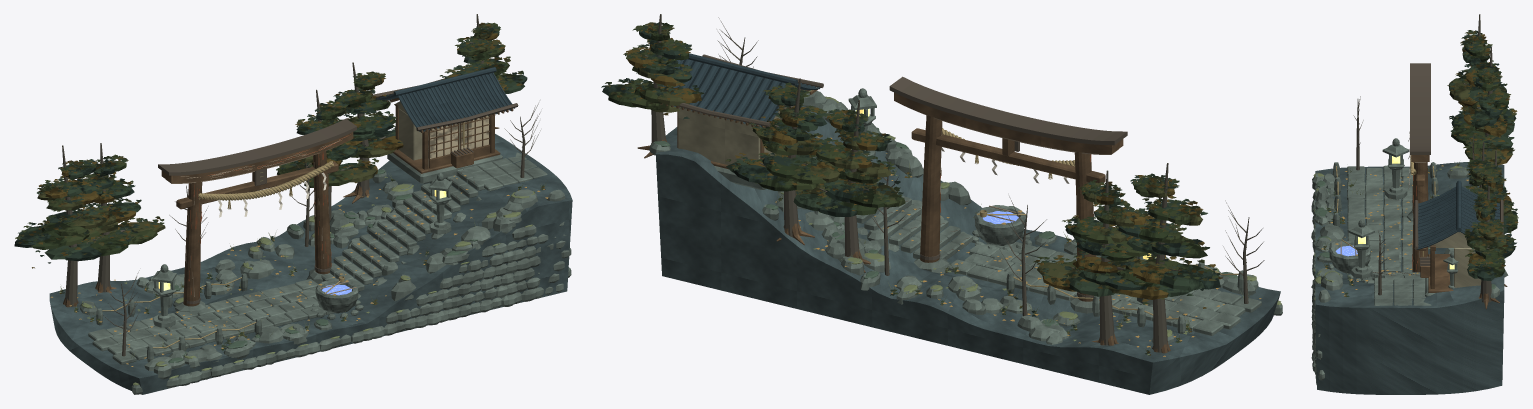
File: act01_approach.glb
3 views of the same model, side by side, from view 1: azimuth 30°, elevation 25°; view 2: azimuth 150°, elevation 25°; view 3: azimuth 270°, elevation 25° (orthographic). The views are drawn at different scales.
Visible parts, largest first — view 1: 01_Terrain_Watertight_Sculpted_Earth, 06_Exposed_Bank_Stone_Strata, 61_Cedar_1_Foliage, 51_Layered_Rocks_Front, 14_Torii_Grand_Curved_Lintels, 51_Layered_Rocks_Back, 45_Shrine_Tile_Ridges, 10_Torii_Weathered_Pillars, 61_Cedar_2_Foliage, 61_Cedar_4_Foliage, 61_Cedar_3_Foliage, 61_Cedar_5_Foliage (+30 smaller); view 2: 01_Terrain_Watertight_Sculpted_Earth, 61_Cedar_1_Foliage, 61_Cedar_2_Foliage, 61_Cedar_3_Foliage, 61_Cedar_4_Foliage, 14_Torii_Grand_Curved_Lintels, 61_Cedar_5_Foliage, 51_Layered_Rocks_Back, 45_Shrine_Tile_Ridges, 10_Torii_Weathered_Pillars, 42_Shrine_Washi_And_Plaster, 51_Layered_Rocks_Front (+20 smaller); view 3: 01_Terrain_Watertight_Sculpted_Earth, 61_Cedar_2_Foliage, 45_Shrine_Tile_Ridges, 61_Cedar_5_Foliage, 61_Cedar_1_Foliage, 51_Layered_Rocks_Front, 14_Torii_Grand_Curved_Lintels, 02_Path_Flat_Flagstones_2, 02_Path_Flat_Flagstones_3, 61_Cedar_4_Foliage, 04_Upper_Landing_Flagstones, 02_Path_Flat_Flagstones_1 (+20 smaller).
Boxes of the visible parts, box(x1,y1,x2,y2) form: 01_Terrain_Watertight_Sculpted_Earth: box(49, 134, 572, 394); 06_Exposed_Bank_Stone_Strata: box(131, 222, 571, 394); 61_Cedar_1_Foliage: box(14, 159, 137, 268); 51_Layered_Rocks_Front: box(144, 189, 565, 379); 14_Torii_Grand_Curved_Lintels: box(158, 118, 356, 183); 51_Layered_Rocks_Back: box(80, 169, 413, 315); 45_Shrine_Tile_Ridges: box(373, 67, 518, 131); 10_Torii_Weathered_Pillars: box(183, 151, 331, 306); 61_Cedar_2_Foliage: box(77, 154, 165, 244); 61_Cedar_4_Foliage: box(333, 71, 403, 157); 61_Cedar_3_Foliage: box(276, 100, 378, 187); 61_Cedar_5_Foliage: box(440, 22, 527, 93); 01_Terrain_Watertight_Sculpted_Earth: box(655, 106, 1280, 394); 61_Cedar_1_Foliage: box(1095, 173, 1222, 308); 61_Cedar_2_Foliage: box(1033, 179, 1158, 304); 61_Cedar_3_Foliage: box(793, 109, 905, 216); 61_Cedar_4_Foliage: box(725, 82, 843, 191); 14_Torii_Grand_Curved_Lintels: box(889, 76, 1127, 154); 61_Cedar_5_Foliage: box(601, 22, 704, 119); 51_Layered_Rocks_Back: box(762, 191, 1174, 344); 45_Shrine_Tile_Ridges: box(663, 53, 823, 127); 10_Torii_Weathered_Pillars: box(920, 115, 1095, 301); 42_Shrine_Washi_And_Plaster: box(678, 105, 783, 165); 51_Layered_Rocks_Front: box(801, 91, 1258, 295); 01_Terrain_Watertight_Sculpted_Earth: box(1315, 162, 1504, 394); 61_Cedar_2_Foliage: box(1460, 62, 1517, 165); 45_Shrine_Tile_Ridges: box(1414, 180, 1503, 249); 61_Cedar_5_Foliage: box(1463, 195, 1510, 280); 61_Cedar_1_Foliage: box(1447, 30, 1507, 148); 51_Layered_Rocks_Front: box(1311, 173, 1344, 302); 14_Torii_Grand_Curved_Lintels: box(1410, 63, 1430, 162); 02_Path_Flat_Flagstones_2: box(1365, 168, 1383, 272); 02_Path_Flat_Flagstones_3: box(1383, 165, 1401, 272); 61_Cedar_4_Foliage: box(1478, 162, 1518, 258); 04_Upper_Landing_Flagstones: box(1374, 278, 1431, 305); 02_Path_Flat_Flagstones_1: box(1347, 166, 1365, 273).
Size of the model in its own units: 21.98 by 8.66 by 8.01.
27 materials, 13 textured.
